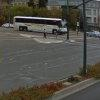Bus: (10, 12, 69, 37)
